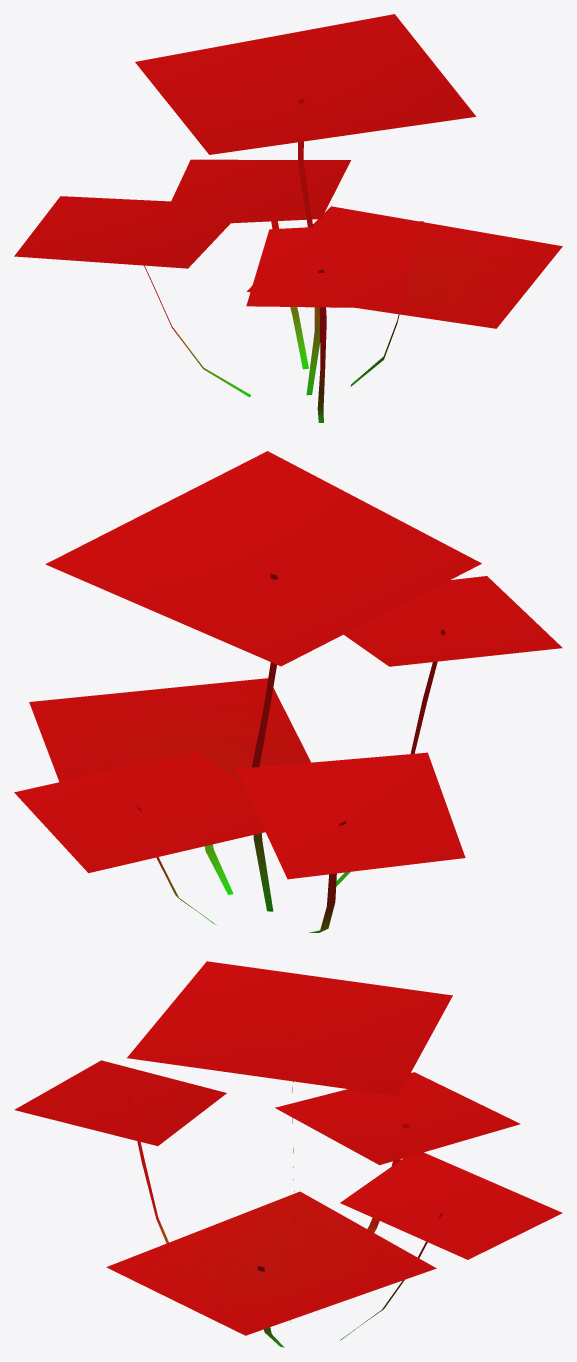
Rendered from Wood Sorrel_LOD2_Var12_wcwmchzja.fbx.
The picture shows the model from 3 angles, top to bottom: view 1: azimuth 30°, elevation 25°; view 2: azimuth 150°, elevation 25°; view 3: azimuth 270°, elevation 25°; orthographic projection. The views are drawn at different scales.
Parts seen in each view (by area): view 1: _jhsc_Var12_LOD2; view 2: _jhsc_Var12_LOD2; view 3: _jhsc_Var12_LOD2.
Part boxes in pixels (bbox=[...]): _jhsc_Var12_LOD2: bbox=[14, 14, 562, 422]; _jhsc_Var12_LOD2: bbox=[14, 451, 562, 932]; _jhsc_Var12_LOD2: bbox=[14, 961, 562, 1347].
Size of the model in its own units: 12.54 by 8.23 by 13.
